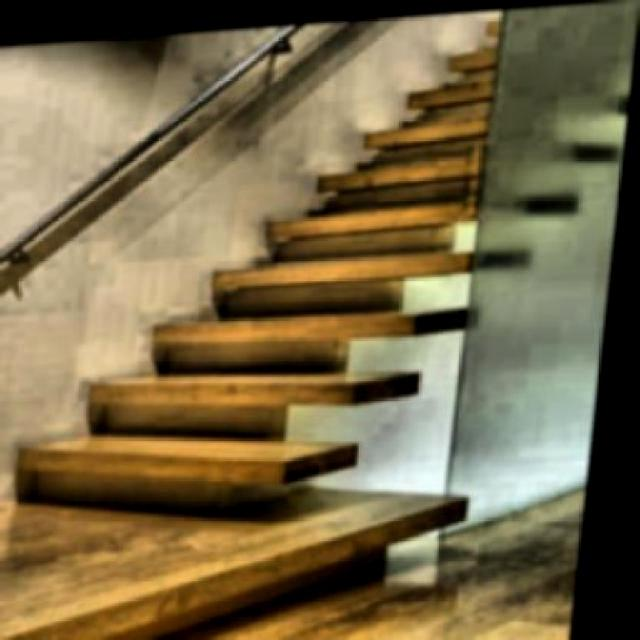stair: (23, 8, 586, 474)
